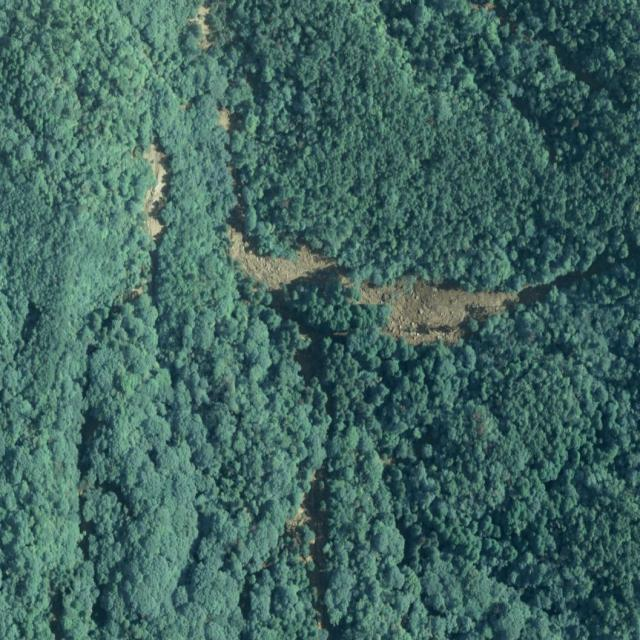landslide: (360, 277, 519, 345), (229, 226, 349, 291), (142, 143, 168, 238)
